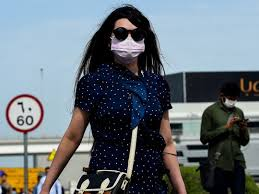with_mask: (107, 19, 148, 63)
